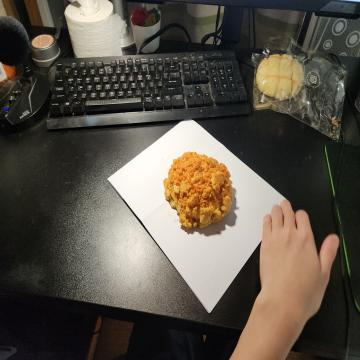soboru_bread: (165, 153, 233, 236)
